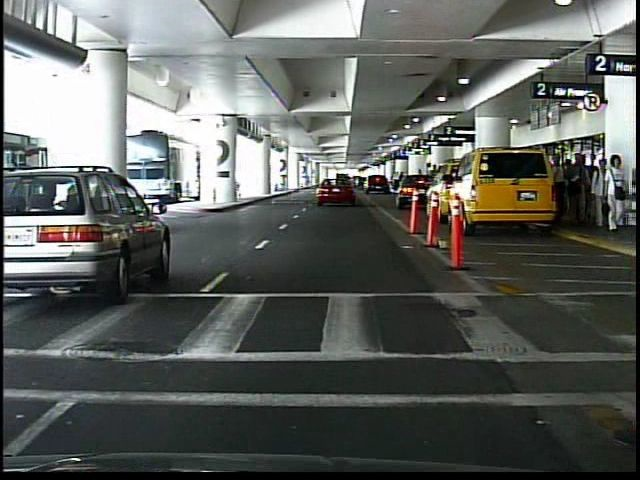person: (606, 154, 630, 231), (634, 156, 635, 228)
